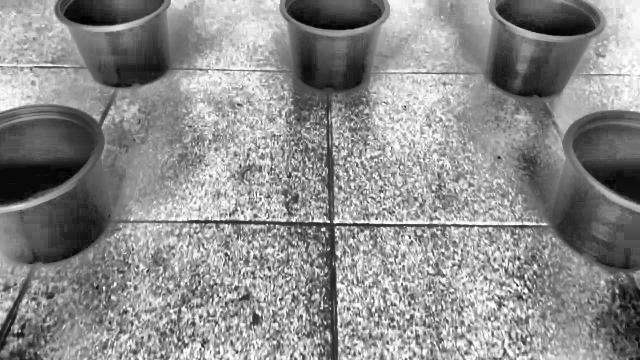pot: (0, 106, 109, 264), (554, 110, 640, 268), (486, 0, 607, 98), (55, 0, 172, 88), (279, 0, 389, 92)
